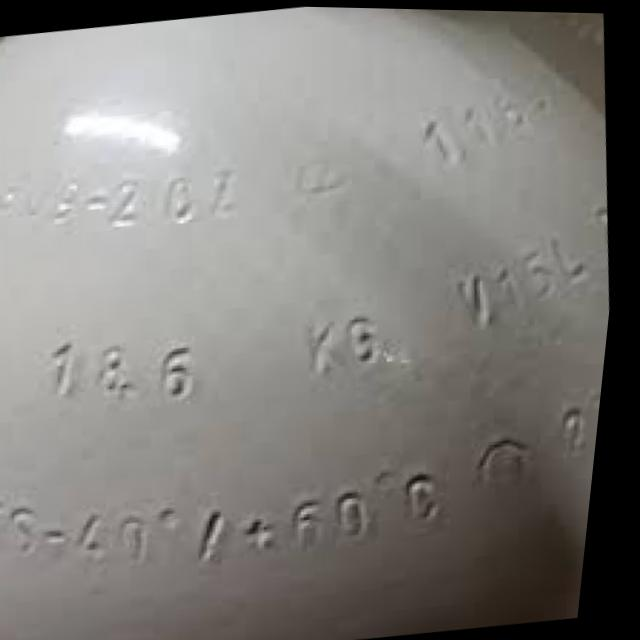ocr: (202, 453, 466, 571), (0, 148, 249, 235), (443, 212, 610, 340), (473, 372, 606, 516), (0, 490, 196, 583), (398, 62, 556, 171), (35, 328, 218, 416), (302, 299, 402, 376)
